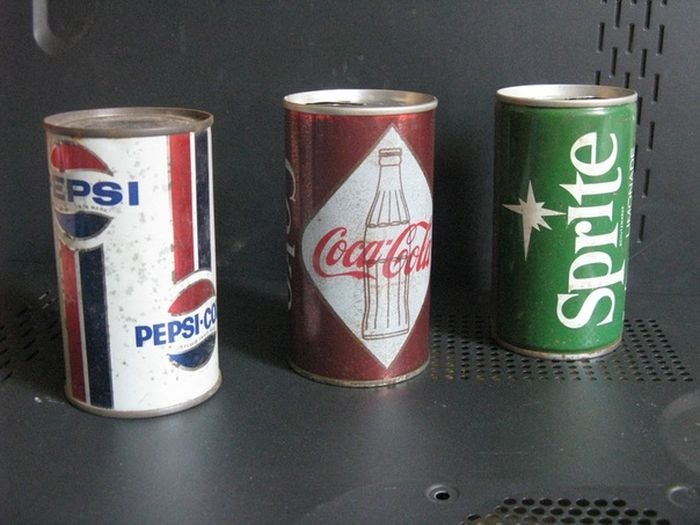can: (36, 102, 236, 428), (274, 78, 448, 402), (477, 75, 648, 375)
